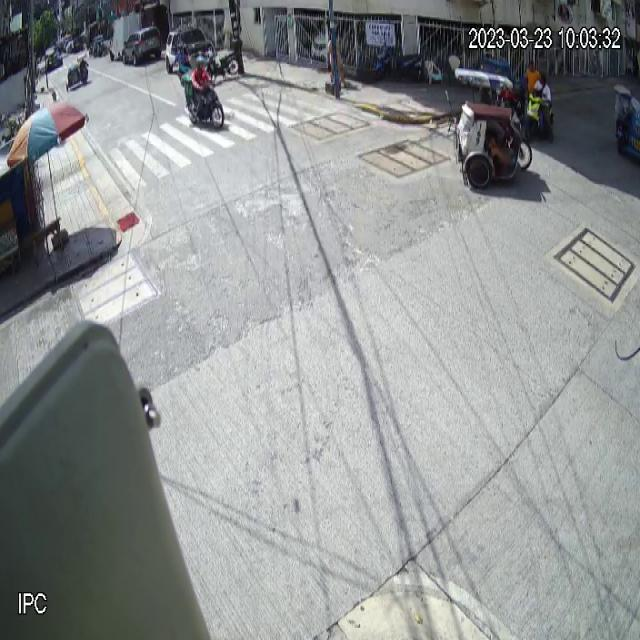Motorcycle: (181, 68, 225, 130)
Tricycle: (453, 68, 533, 190)
